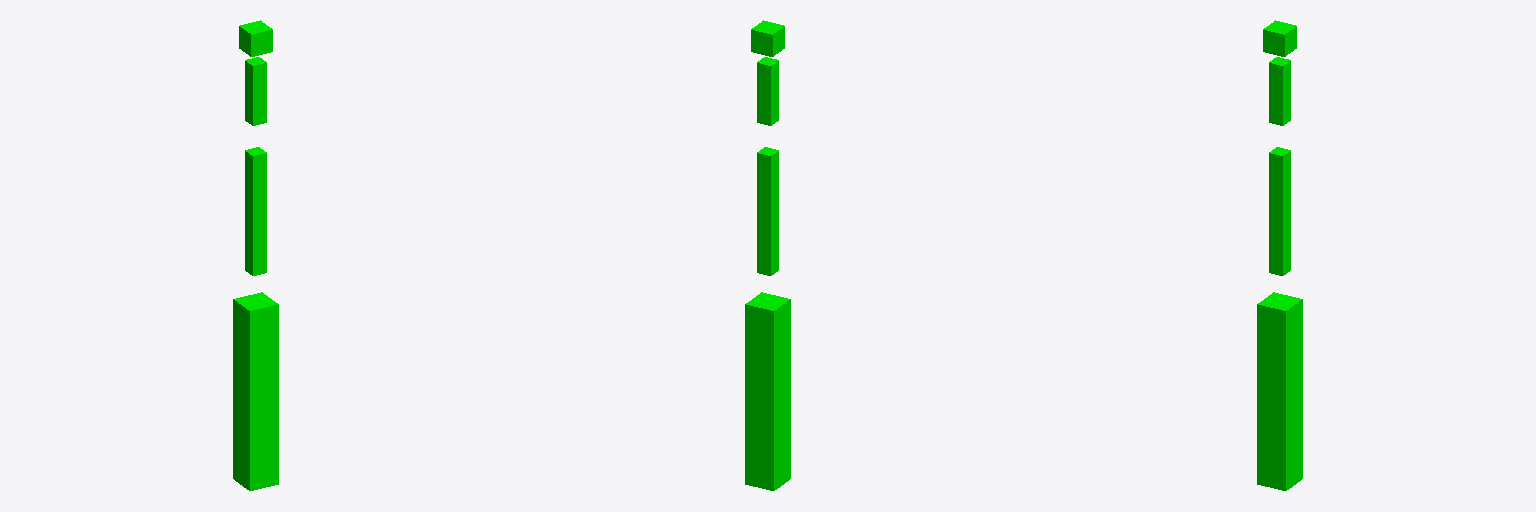
The robot description file, URDF, robot "robot_arm":
<?xml version="1.0"?>
  <robot name="robot_arm">

  <material name="Green">
    <color rgba="0 1 0 1"/>
  </material>

  <link name="world" />
  <joint name= "originfix" type="fixed">
    <origin rpy="0 0 0" xyz="0 0 0"/>
    <parent link="world"/>
    <child link="base_link"/>
  </joint>



  <link name="base_link">
    <visual>
      <origin rpy="0 0 0" xyz="0 0 0.3"/>
      <geometry>
        <box size="0.1 0.1 0.6"/>
      </geometry>
      <material name="Green"/>
    </visual>
    <collision>
      <origin rpy="0 0 0" xyz="0 0 0.3"/>
      <geometry>
        <box size="0.1 0.1 0.6"/>
      </geometry>
    </collision>
    <inertial>
      <origin rpy="0 0 0" xyz="0 0 0.3"/>
      <mass value="1"/>
      <inertia ixx="0.0001" ixy="0.0" ixz="0.0" iyy="0.0001" iyz="0.0" izz="0.0001"/>
    </inertial>
  </link>

  <link name="link_1">
    <visual>
      <origin rpy="0 0 0" xyz="0 0 0.2"/>
      <geometry>
        <box size="0.05 0.05 0.4"/>
      </geometry>
      <material name="Green"/>
    </visual>
    <collision>
      <origin rpy="0 0 0" xyz="0 0 0.9"/>
      <geometry>
        <box size="0.05 0.05 0.4"/>
      </geometry>
    </collision>
    <inertial>
      <origin rpy="0 0 0" xyz="0 0 0.9"/>
      <mass value="0.1"/>
      <inertia ixx="0.0001" ixy="0.0" ixz="0.0" iyy="0.0001" iyz="0.0" izz="0.0001"/>
    </inertial>
  </link>

  <joint name="joint" type="revolute">
    <origin rpy="0 0 0" xyz="0 0 0.7"/>
    <parent link="base_link"/>
    <child link="link_1"/>
    <axis xyz="1 0 0"/>
    <limit effort="10.0" velocity="5.0" lower="0" upper="1.57"/>  
  </joint>

  <link name="link_2">
    <visual>
      <origin rpy="0 0 0" xyz="0 0 0.1"/>
      <geometry>
        <box size="0.05 0.05 0.2"/>
      </geometry>
      <material name="Green"/>
    </visual>
    <visual>
      <origin rpy="0 0 0" xyz="0 0 0.275 "/>
      <geometry>
        <box size="0.075 0.075 0.075"/>
      </geometry>
      <material name="Green"/>
    </visual>
    <collision>
      <origin rpy="0 0 0" xyz="0 0 1.235"/>
      <geometry>
        <box size="0.05 0.05 0.27"/>
      </geometry>
    </collision>
    <inertial>
      <origin rpy="0 0 0" xyz="0 0 0.1"/>
      <mass value="0.1"/>
      <inertia ixx="0.0001" ixy="0.0" ixz="0.0" iyy="0.0001" iyz="0.0" izz="0.0001"/>
    </inertial>
  </link>

  <joint name="joint_1" type="revolute">
    <origin rpy="0 0 0" xyz="0 0 0.5"/>
    <parent link="link_1"/>
    <child link="link_2"/>
    <axis xyz="1 0 0"/>
    <limit effort="10.0" velocity="5.0" lower="0" upper="1.57"/>
  </joint>

    <ros2_control name="GazeboSystem" type="system">
        <hardware>
            <plugin>gazebo_ros2_control/GazeboSystem</plugin>
        </hardware>
        <joint name="joint1">
            <command_interface name="position"/>
            <state_interface name="velocity"/>
            <state_interface name="position"/>
        </joint>
        <joint name="joint2">
            <command_interface name="position"/>
            <state_interface name="velocity"/>
            <state_interface name="position"/>
        </joint>
    </ros2_control>
    
    <gazebo>
        <plugin name="gazebo_ros2_control" filename="libgazebo_ros2_control.so">
            <parameters>absoulte_path_of_config_file</parameters>  <!--Do not forget to enter the correct path or the simulation will crash without any error message-->
        </plugin>
    </gazebo>
    <gazebo reference="link_2">
    <gravity>true</gravity>
    <sensor name="imu_sensor" type="imu">
      <always_on>true</always_on>
      <update_rate>100</update_rate>
      <visualize>true</visualize>
      <topic>__default_topic__</topic>
      <plugin filename="libgazebo_ros_imu_sensor.so" name="imu_plugin">
        <topicName>imu</topicName>
        <bodyName>imu_link</bodyName>
        <updateRateHZ>10.0</updateRateHZ>
        <gaussianNoise>0.0</gaussianNoise>
        <xyzOffset>0 0 0</xyzOffset>
        <rpyOffset>0 0 0</rpyOffset>
        <frameName>imu_link</frameName>
        <initialOrientationAsReference>false</initialOrientationAsReference>
      </plugin>
      <pose>0 0 0 0 0 0</pose>
    </sensor>
  </gazebo> 

</robot>

--- Facts derived from the render (not from the file) ---
The picture shows the robot from 3 angles, left to right: view 1: azimuth 30°, elevation 25°; view 2: azimuth 150°, elevation 25°; view 3: azimuth 330°, elevation 25°; orthographic projection.
Robot: robot_arm — 4 links, 3 joints (2 revolute, 1 fixed); root link world; default pose: all joints at 0.
Visible links, largest first — view 1: base_link, link_1, link_2; view 2: base_link, link_1, link_2; view 3: base_link, link_1, link_2.
Boxes of the visible links, bbox=[...] form: base_link: bbox=[233, 292, 278, 490]; link_1: bbox=[245, 147, 266, 275]; link_2: bbox=[239, 20, 272, 125]; base_link: bbox=[745, 292, 790, 490]; link_1: bbox=[757, 147, 778, 275]; link_2: bbox=[751, 20, 784, 125]; base_link: bbox=[1257, 292, 1302, 490]; link_1: bbox=[1269, 147, 1290, 275]; link_2: bbox=[1263, 20, 1296, 125].
Size in the robot's own frame: 0.1 by 0.1 by 1.51 metres.
Geometry: primitives only (box / cylinder / sphere), no mesh files.